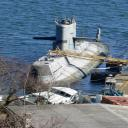submarine: (23, 12, 112, 96)
